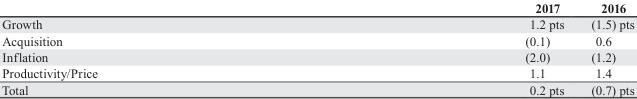table: (1, 0, 633, 96)
table column: (1, 0, 310, 96), (310, 0, 576, 96), (576, 0, 633, 96)
table column header: (1, 0, 633, 32)
table row: (1, 0, 633, 32), (1, 64, 633, 81), (1, 32, 633, 48), (1, 48, 633, 64), (1, 81, 633, 96)
